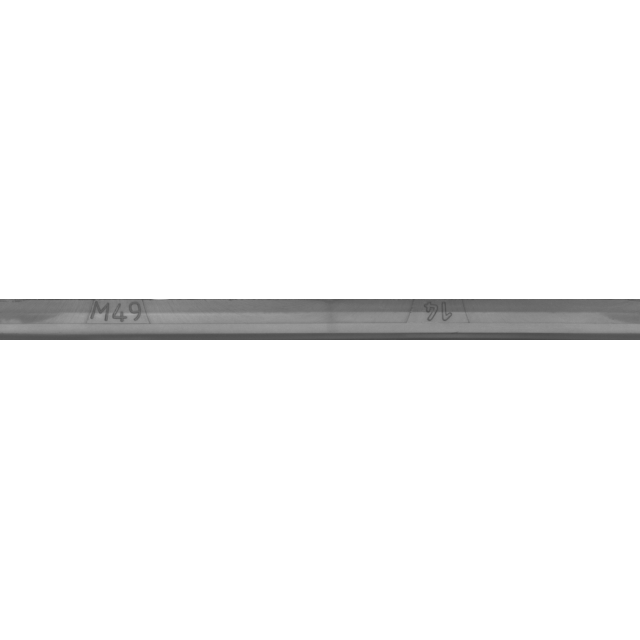mohao: (21, 270, 221, 370)
xuehao: (344, 270, 544, 370)
